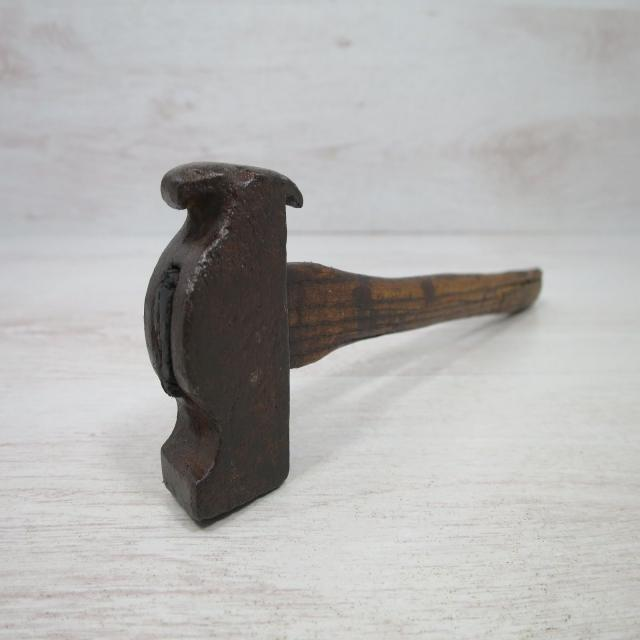hammer: (135, 150, 550, 532)
